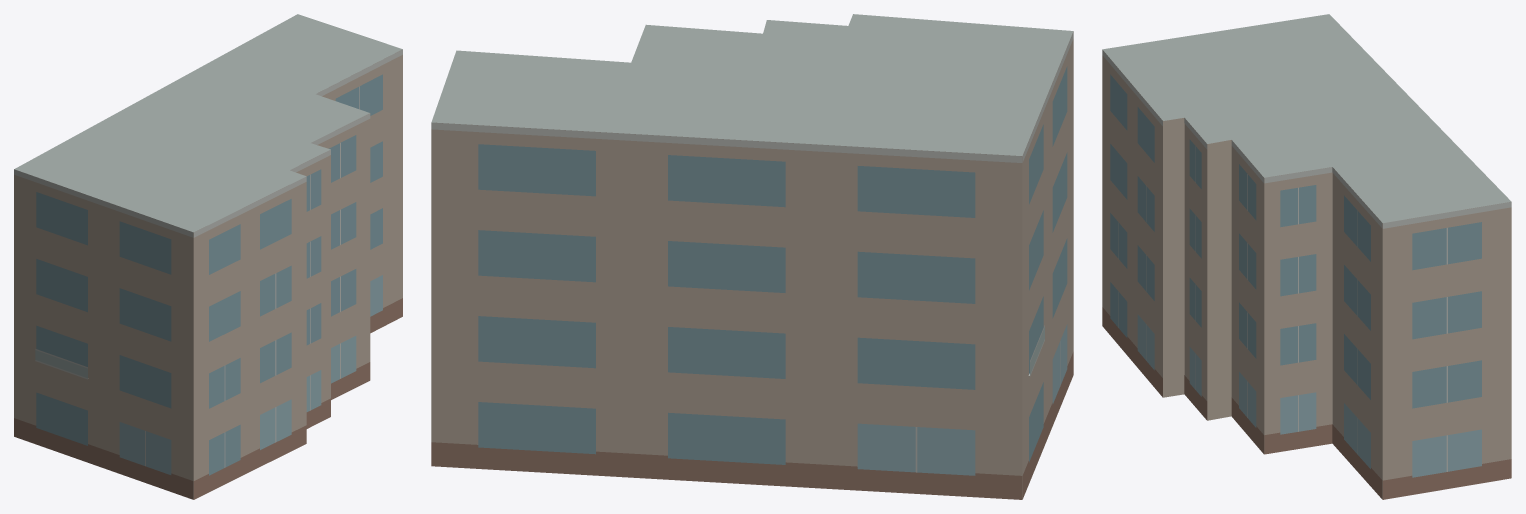
File: survey-upis-32787011.glb
3 views of the same model, side by side, from view 1: azimuth 30°, elevation 25°; view 2: azimuth 150°, elevation 25°; view 3: azimuth 270°, elevation 25° (orthographic). The views are drawn at different scales.
Parts seen in each view (by area): view 1: survey-upis-32787011.tmp; view 2: survey-upis-32787011.tmp; view 3: survey-upis-32787011.tmp.
Part boxes in pixels (bbox=[...]): survey-upis-32787011.tmp: bbox=[14, 14, 402, 499]; survey-upis-32787011.tmp: bbox=[431, 14, 1073, 499]; survey-upis-32787011.tmp: bbox=[1102, 14, 1511, 499].
Bounding box in the file's own units: 19.48 × 12 × 16.1.
